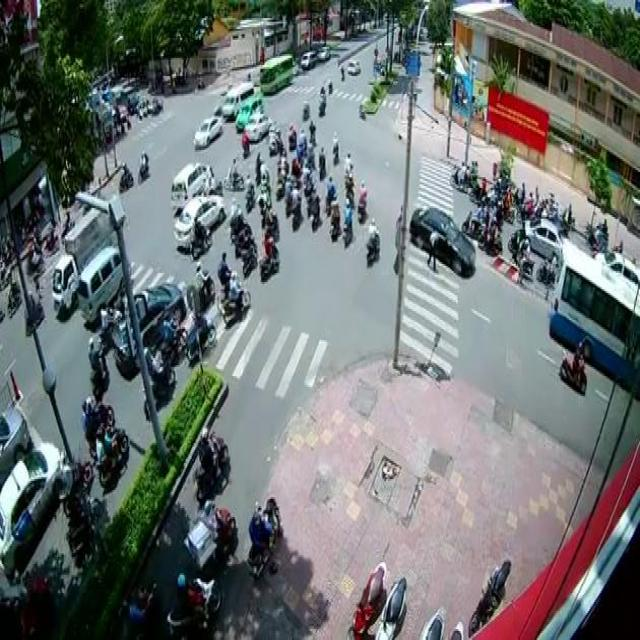bus: (548, 238, 639, 398)
car: (0, 440, 60, 570), (113, 280, 184, 372), (408, 206, 474, 277), (172, 193, 225, 246), (171, 161, 214, 208), (523, 219, 560, 260), (192, 116, 221, 148), (235, 96, 263, 128), (244, 112, 271, 143)
motorcycle: (193, 423, 231, 506), (92, 423, 129, 490), (556, 336, 586, 396), (221, 270, 252, 324), (85, 334, 108, 400), (258, 228, 278, 280), (364, 212, 380, 266), (222, 157, 245, 190), (328, 190, 341, 240), (342, 193, 352, 246), (118, 161, 133, 195), (136, 146, 150, 182), (357, 178, 368, 222), (243, 170, 254, 213)
truck: (49, 206, 108, 307), (77, 244, 121, 322), (222, 81, 255, 118)
